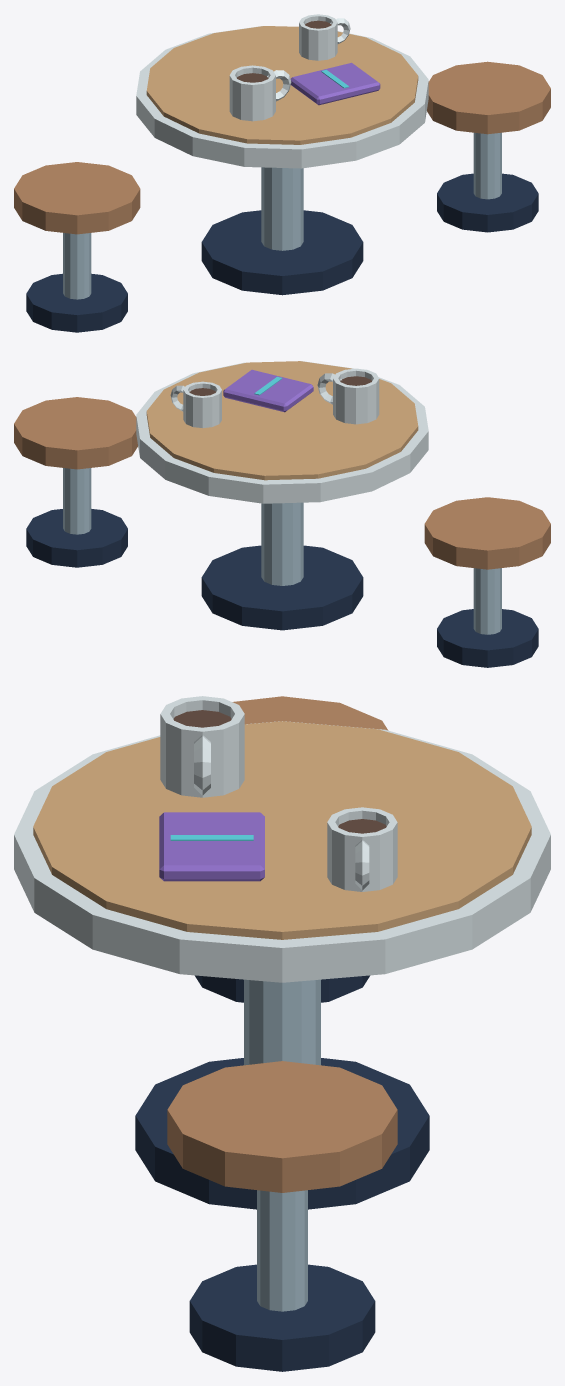
The model's file is campus_cafe_table_v01.glb.
The picture shows the model from 3 angles, top to bottom: view 1: azimuth 30°, elevation 25°; view 2: azimuth 150°, elevation 25°; view 3: azimuth 270°, elevation 25°; orthographic projection. The views are drawn at different scales.
Parts seen in each view (by area): view 1: campus_cafe_table; view 2: campus_cafe_table; view 3: campus_cafe_table.
Part boxes in pixels (box(x1,y1,x2,y2)): campus_cafe_table: box(14, 14, 550, 332); campus_cafe_table: box(14, 361, 550, 667); campus_cafe_table: box(14, 696, 550, 1371).
Size of the model in its own units: 3.42 by 1.35 by 1.68.
Materials: 1 (1 with a texture image).
